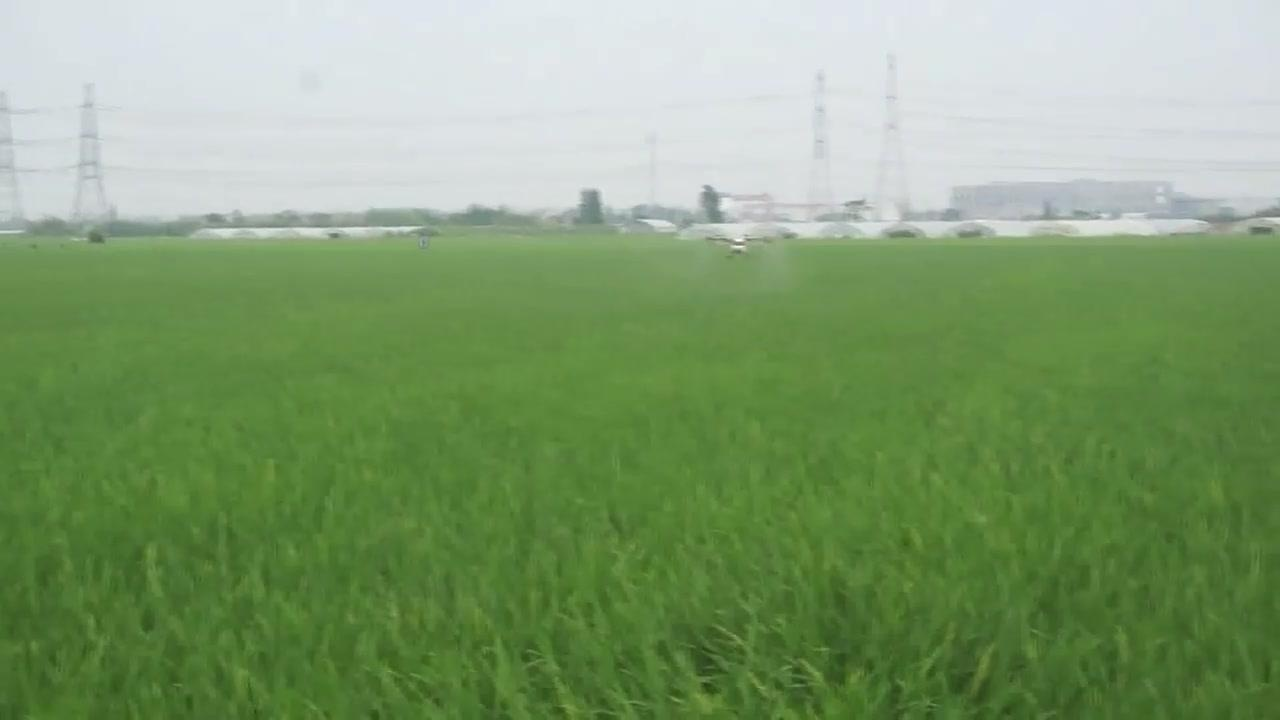UAV: (706, 236, 762, 259)
